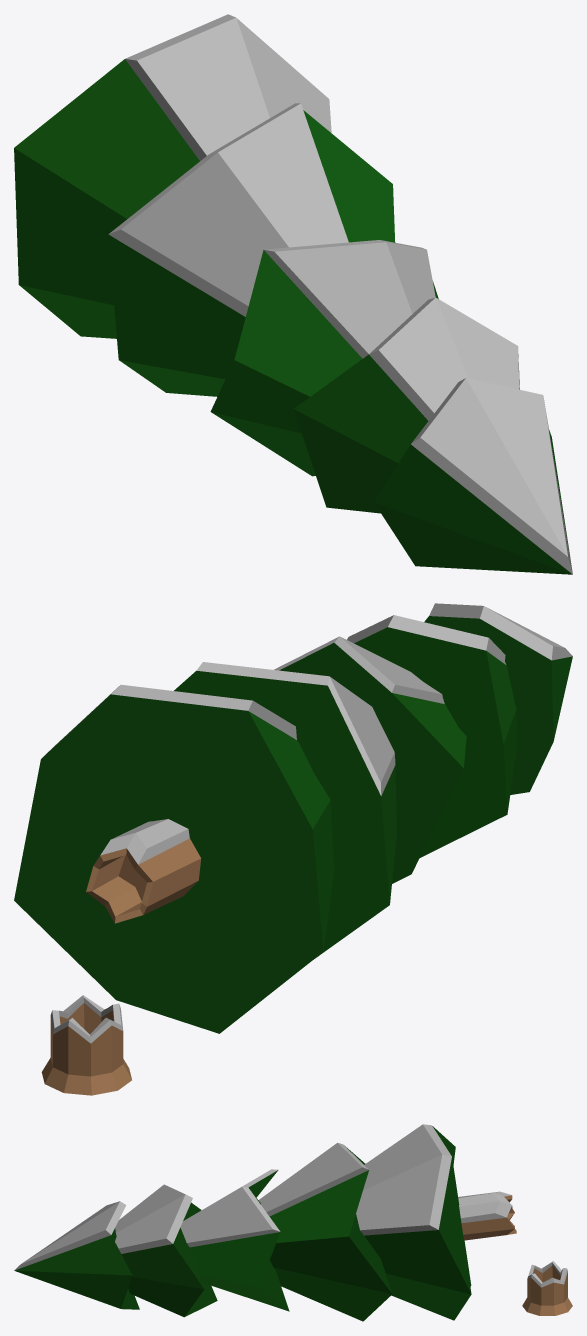
The model's file is Fir_7 Broken Winter.fbx.
3 renders of one model, top to bottom at view 1: azimuth 30°, elevation 25°; view 2: azimuth 150°, elevation 25°; view 3: azimuth 270°, elevation 25°, orthographic. The views are drawn at different scales.
Visible parts, largest first — view 1: Fir7BrokenWinter_mesh; view 2: Fir7BrokenWinter_mesh; view 3: Fir7BrokenWinter_mesh.
Part boxes in pixels (x1,y1,x2,y2): Fir7BrokenWinter_mesh: (14, 14, 572, 574); Fir7BrokenWinter_mesh: (14, 603, 572, 1095); Fir7BrokenWinter_mesh: (14, 1124, 572, 1321).
Size of the model in its own units: 296 by 301 by 900.
